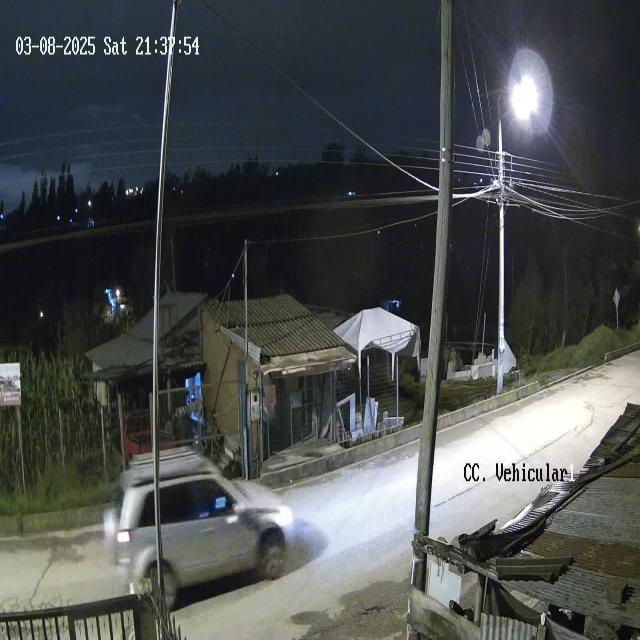SUV: (108, 444, 296, 614)
